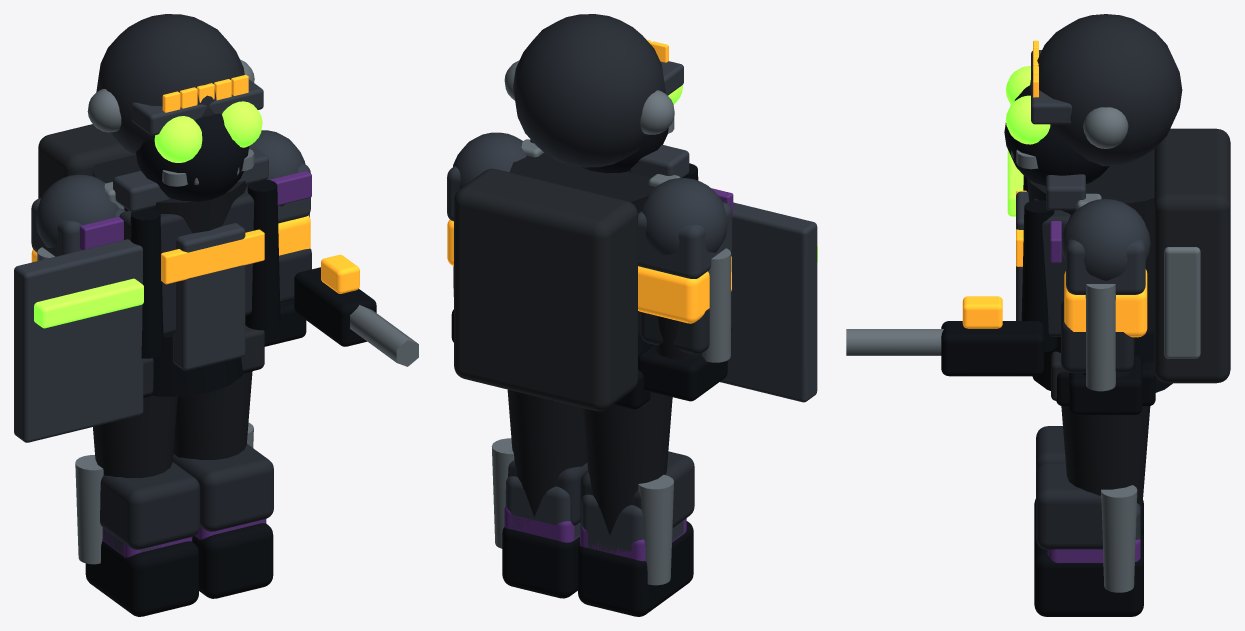
The model's file is assault_l05.glb.
The picture shows the model from 3 angles, left to right: view 1: azimuth 30°, elevation 25°; view 2: azimuth 150°, elevation 25°; view 3: azimuth 270°, elevation 25°; orthographic projection. The views are drawn at different scales.
Parts seen in each view (by area): view 1: forearm_shield, shaped_knee_guard (×2), boot (×2), rounded_helmet, trouser (×2), front_plate, vest_tether (×2), shoulder_joint (×2), enclosed_mask, field_pack, carbine_body, shield_light (+19 smaller); view 2: field_pack, rounded_helmet, forearm_shield, trouser (×2), boot (×2), shoulder_joint (×2), knee_plate (×2), shin_frame (×2), shoulder_plate (×2), body, rank_stripe, glove (+10 smaller); view 3: field_pack, rounded_helmet, trouser, shaped_knee_guard (×2), carbine_body, boot, shoulder_joint, spare_magazine, body, shin_frame, forearm_seam, vest_tether (+18 smaller).
Part boxes in pixels (x1,y1,x2,y2): forearm_shield: (14, 239, 143, 442); shaped_knee_guard (×2): (100, 444, 273, 549); boot (×2): (85, 523, 273, 616); rounded_helmet: (96, 14, 244, 154); trouser (×2): (93, 371, 252, 477); front_plate: (173, 223, 245, 370); vest_tether (×2): (130, 179, 280, 358); shoulder_joint (×2): (36, 130, 305, 247); enclosed_mask: (136, 113, 249, 201); field_pack: (38, 124, 134, 198); carbine_body: (294, 267, 376, 346); shield_light: (34, 278, 143, 328); field_pack: (454, 168, 637, 411); rounded_helmet: (513, 14, 665, 167); forearm_shield: (720, 202, 817, 402); trouser (×2): (507, 389, 672, 535); boot (×2): (502, 521, 693, 616); shoulder_joint (×2): (453, 132, 727, 255); knee_plate (×2): (505, 476, 683, 554); shin_frame (×2): (491, 438, 673, 585); shoulder_plate (×2): (447, 166, 732, 278); body: (509, 152, 654, 332); rank_stripe: (638, 256, 731, 323); glove: (638, 344, 727, 401); field_pack: (1154, 128, 1230, 383); rounded_helmet: (1029, 14, 1182, 166); trouser: (1061, 406, 1150, 526); shaped_knee_guard (×2): (1036, 426, 1102, 549); carbine_body: (941, 321, 1044, 376); boot: (1034, 533, 1143, 616); shoulder_joint: (1061, 199, 1150, 280); spare_magazine: (1164, 247, 1200, 358); body: (1026, 149, 1154, 332); shin_frame: (1101, 485, 1137, 592); forearm_seam: (1085, 284, 1115, 391); vest_tether: (1021, 200, 1057, 352).
Size of the model in its own units: 1.12 by 1.88 by 1.16.
